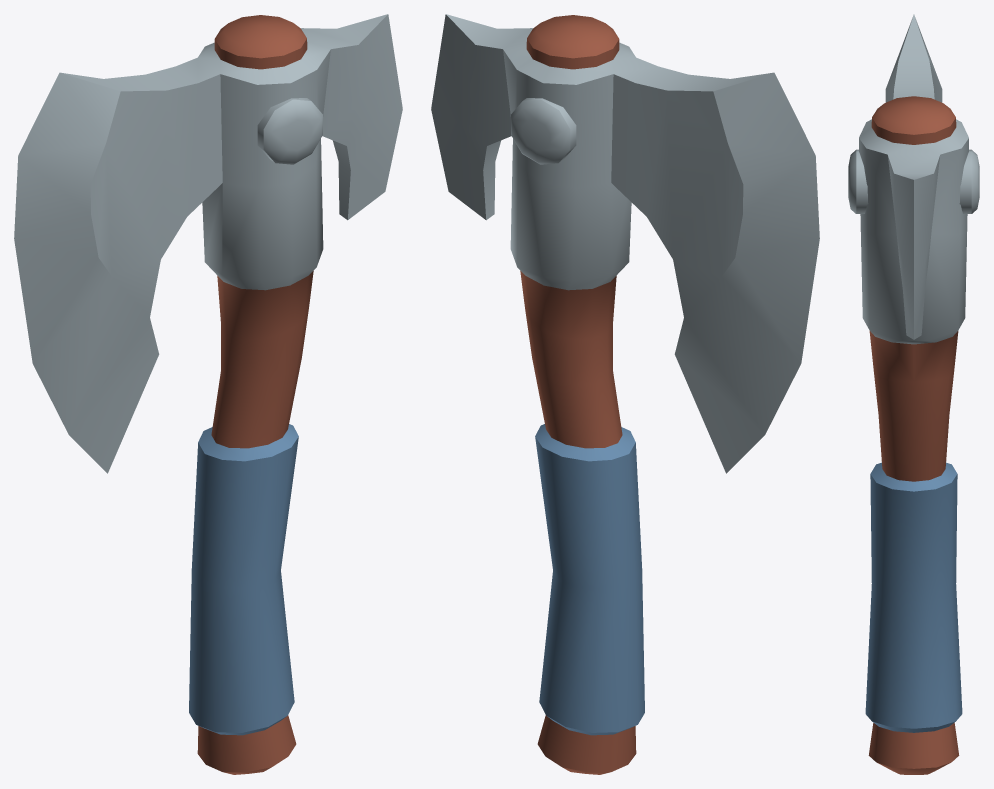
File: vikingAxe.gltf.glb
3 views of the same model, side by side, from view 1: azimuth 30°, elevation 25°; view 2: azimuth 150°, elevation 25°; view 3: azimuth 270°, elevation 25° (orthographic). The views are drawn at different scales.
Visible parts, largest first — view 1: vikingAxe; view 2: vikingAxe; view 3: vikingAxe.
Part boxes in pixels (x1,y1,x2,y2): vikingAxe: (14,14,402,774); vikingAxe: (431,14,819,774); vikingAxe: (848,14,979,774).
Size of the model in its own units: 0.4427 by 0.803 by 0.1423.
